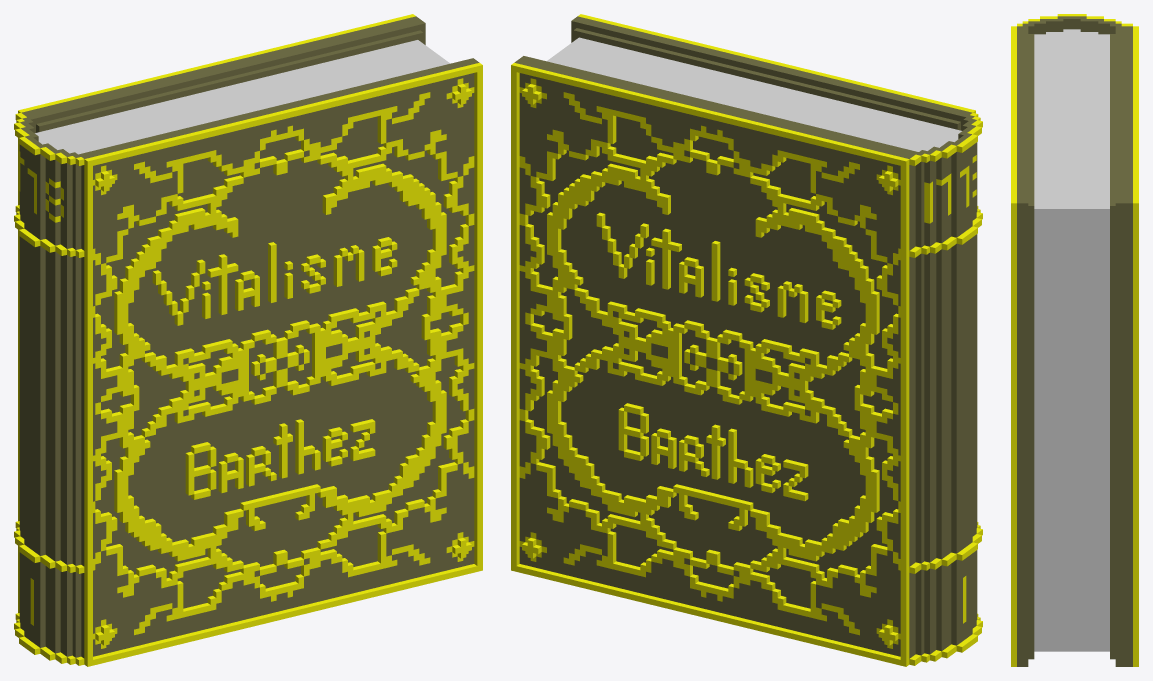
The model's file is livreBarthez.obj.
3 renders of one model, left to right at view 1: azimuth 30°, elevation 25°; view 2: azimuth 150°, elevation 25°; view 3: azimuth 270°, elevation 25°, orthographic. The views are drawn at different scales.
Bounding box in the file's own units: 7.7 × 8.8 × 2.2.
